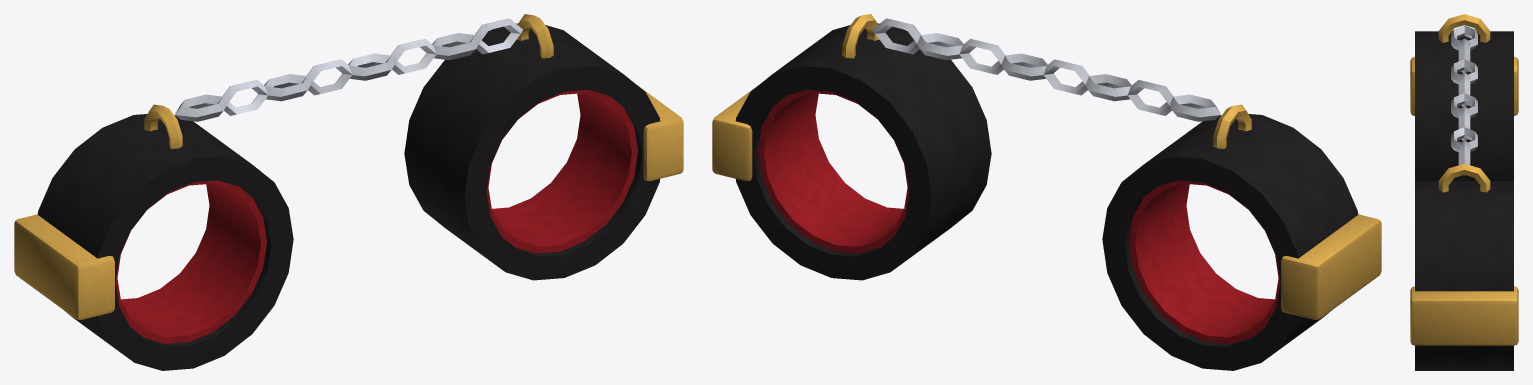
Rendered from Bind_Handcuffs.fbx.
3 renders of one model, left to right at view 1: azimuth 30°, elevation 25°; view 2: azimuth 150°, elevation 25°; view 3: azimuth 270°, elevation 25°, orthographic. The views are drawn at different scales.
Visible parts, largest first — view 1: Bind_Handcuffs; view 2: Bind_Handcuffs; view 3: Bind_Handcuffs.
Boxes of the visible parts, bbox=[...] form: Bind_Handcuffs: bbox=[14, 14, 683, 370]; Bind_Handcuffs: bbox=[712, 14, 1381, 370]; Bind_Handcuffs: bbox=[1410, 14, 1518, 370].
Size of the model in its own units: 0.246 by 0.0942 by 0.046.
4 materials, 4 textured.
